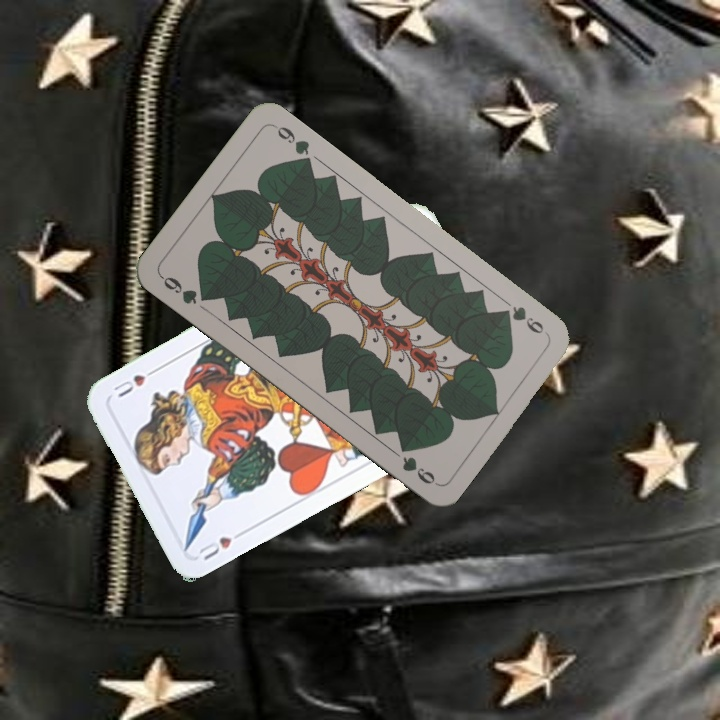G9: (156, 271, 213, 307), (496, 302, 551, 339)
HU: (193, 525, 249, 564)
